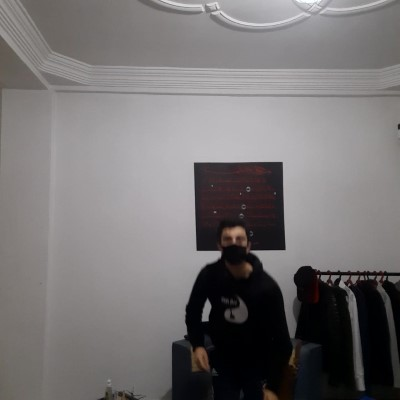NonMedicalMask: (222, 245, 248, 265)
